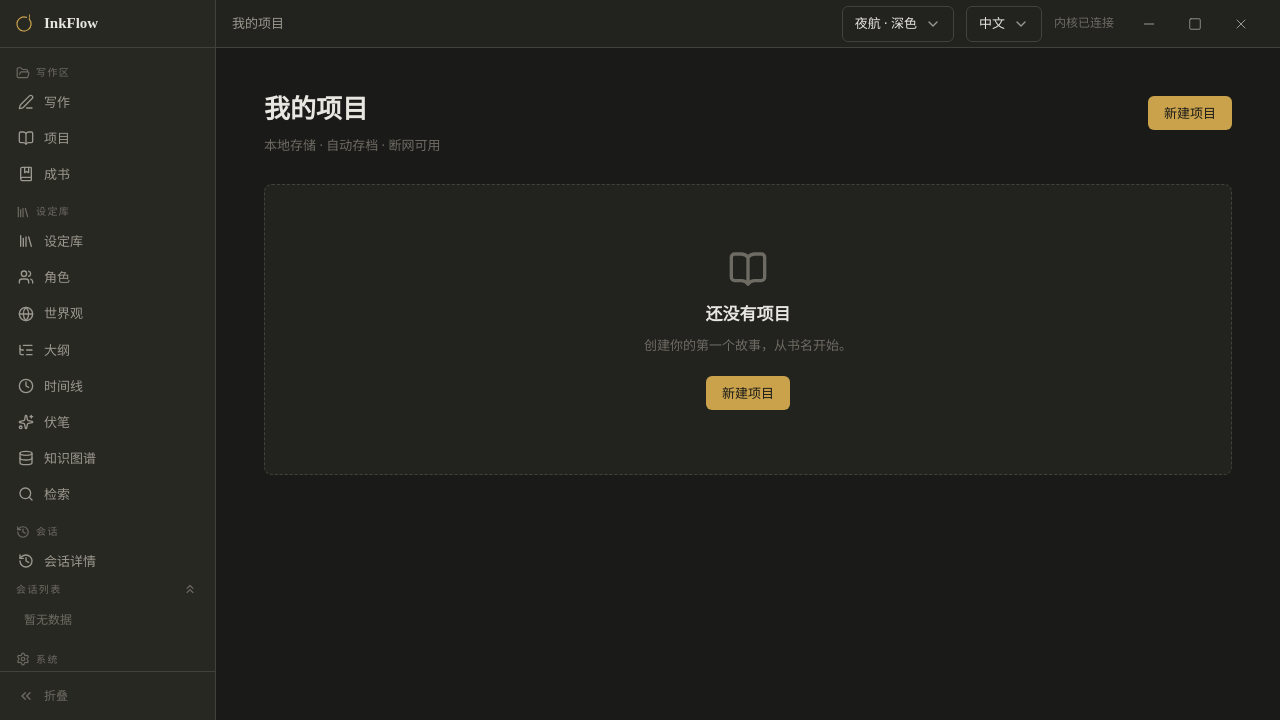
Test: App 顶栏 — 主题/语言 Radix Select 契约升级（#106 §8.2⑤，Q4=A） › 主题 Select：回读当前主题 + 展开可见全部选项（三主题）+ 选择直达生效（setTheme）
Note: 展开可见全部选项（M5b：三主题）
Click the dropdown with test id "header-theme-select" at x=898, y=24, box left=842, top=6, right=954, bottom=42
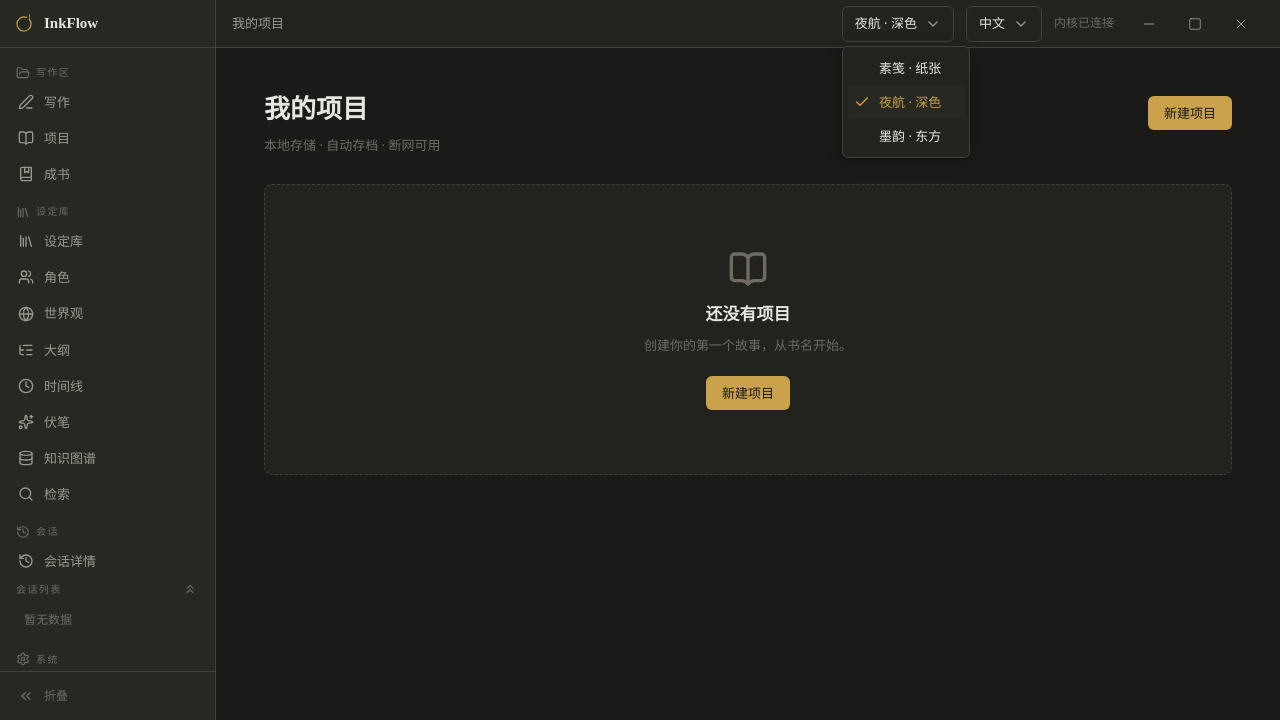
Now the option "素笺 · 纸张" is shown
Now the option "夜航 · 深色" is shown, box left=847, top=85, right=965, bottom=119
Now the option "墨韵 · 东方" is shown, box left=879, top=127, right=941, bottom=145
Note: 选择直达生效（M5b：选择 → setTheme）
Click the option "素笺 · 纸张" at x=910, y=68, box left=879, top=59, right=941, bottom=77
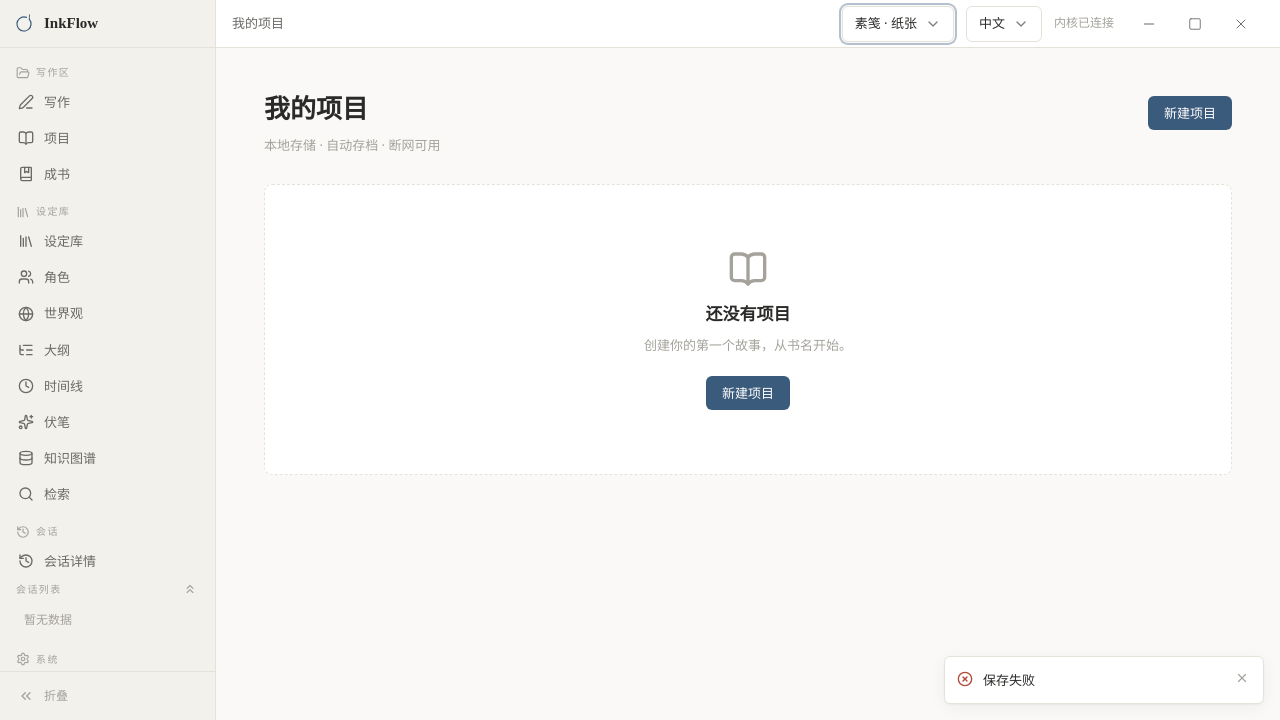
Now the dropdown with test id "header-theme-select" shows "素笺", box left=842, top=6, right=954, bottom=42
